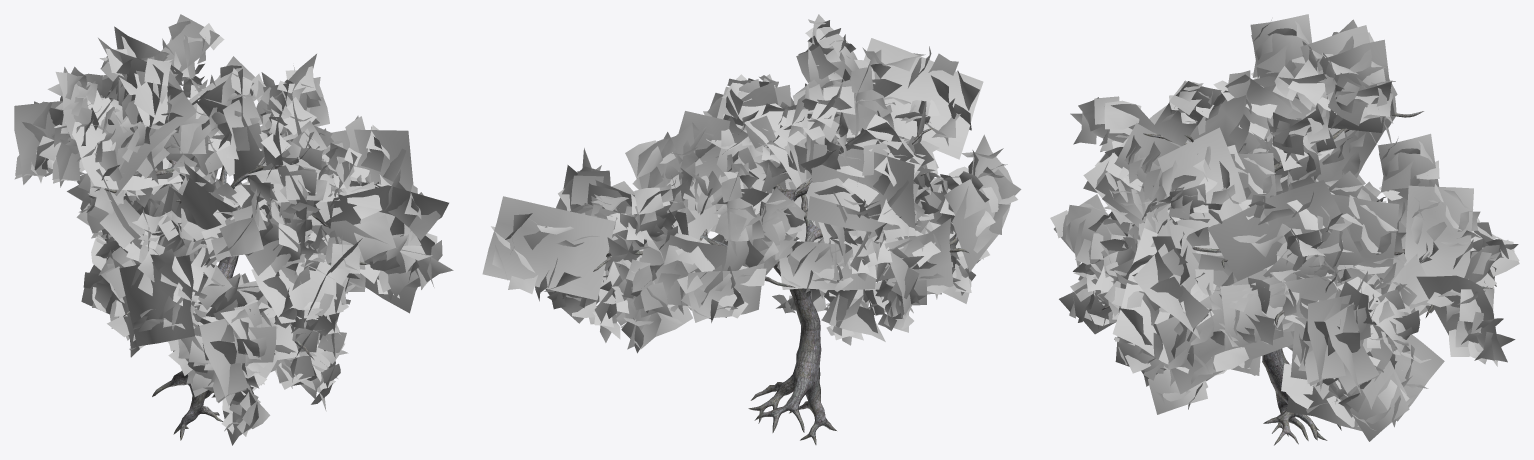
File: tree2.fbx
The picture shows the model from 3 angles, left to right: view 1: azimuth 30°, elevation 25°; view 2: azimuth 150°, elevation 25°; view 3: azimuth 270°, elevation 25°; orthographic projection.
Parts seen in each view (by area): view 1: tree2|branch2-2|Dupli|40, tree2|branch2-2|Dupli|58, tree2|branch2-3|Dupli|57, tree2|branch2-3|Dupli|24, tree2|branch2-1|Dupli|23, tree2|branch2-3|Dupli|78, tree2|branch2-1|Dupli|44, tree2|branch2-2|Dupli|46, tree2|branch2-3|Dupli|75, tree2|branch2-2|Dupli|43, tree2|branch2-3|Dupli|63, tree2|branch2-3|Dupli|39 (+37 smaller); view 2: tree2|branch2-2|Dupli|52, tree2|branch2-2|Dupli|46, tree2|branch2-3|Dupli|21, tree2, tree2|branch2-2|Dupli|40, tree2|branch2-3|Dupli|39, tree2|branch2-1|Dupli|41, tree2|branch2-1|Dupli|35, tree2|branch2-1|Dupli|29, tree2|branch2-3|Dupli|36, tree2|branch2-1|Dupli|17, tree2|branch2-2|Dupli|4 (+32 smaller); view 3: tree2|branch2-2|Dupli|55, tree2|branch2-2|Dupli|37, tree2|branch2-2|Dupli|70, tree2|branch2-2|Dupli|49, tree2|branch2-3|Dupli|57, tree2|branch2-2|Dupli|52, tree2|branch2-1|Dupli|5, tree2|branch2-2|Dupli|4, tree2|branch2-3|Dupli|24, tree2|branch2-2|Dupli|58, tree2|branch2-3|Dupli|, tree2|branch2-1|Dupli|65 (+39 smaller).
Part boxes in pixels (left/top/right/bottom): tree2|branch2-2|Dupli|40: left=119, top=248, right=204, bottom=346; tree2|branch2-2|Dupli|58: left=311, top=215, right=453, bottom=297; tree2|branch2-3|Dupli|57: left=313, top=169, right=448, bottom=248; tree2|branch2-3|Dupli|24: left=197, top=68, right=263, bottom=183; tree2|branch2-1|Dupli|23: left=114, top=52, right=171, bottom=184; tree2|branch2-3|Dupli|78: left=251, top=253, right=343, bottom=328; tree2|branch2-1|Dupli|44: left=175, top=178, right=305, bottom=275; tree2|branch2-2|Dupli|46: left=198, top=149, right=289, bottom=267; tree2|branch2-3|Dupli|75: left=322, top=116, right=413, bottom=191; tree2|branch2-2|Dupli|43: left=98, top=71, right=197, bottom=195; tree2|branch2-3|Dupli|63: left=199, top=295, right=276, bottom=405; tree2|branch2-3|Dupli|39: left=81, top=233, right=135, bottom=343; tree2|branch2-2|Dupli|52: left=482, top=196, right=615, bottom=301; tree2|branch2-2|Dupli|46: left=864, top=38, right=983, bottom=159; tree2|branch2-3|Dupli|21: left=806, top=143, right=916, bottom=241; tree2: left=593, top=128, right=968, bottom=444; tree2|branch2-2|Dupli|40: left=944, top=134, right=1021, bottom=272; tree2|branch2-3|Dupli|39: left=884, top=218, right=953, bottom=315; tree2|branch2-1|Dupli|41: left=677, top=263, right=766, bottom=322; tree2|branch2-1|Dupli|35: left=713, top=161, right=768, bottom=270; tree2|branch2-1|Dupli|29: left=775, top=237, right=877, bottom=292; tree2|branch2-3|Dupli|36: left=640, top=226, right=727, bottom=317; tree2|branch2-1|Dupli|17: left=722, top=74, right=801, bottom=188; tree2|branch2-2|Dupli|4: left=625, top=124, right=698, bottom=233; tree2|branch2-2|Dupli|55: left=1207, top=180, right=1363, bottom=281; tree2|branch2-2|Dupli|37: left=1404, top=184, right=1481, bottom=279; tree2|branch2-2|Dupli|70: left=1156, top=268, right=1293, bottom=394; tree2|branch2-2|Dupli|49: left=1157, top=127, right=1248, bottom=236; tree2|branch2-3|Dupli|57: left=1133, top=214, right=1213, bottom=341; tree2|branch2-2|Dupli|52: left=1416, top=275, right=1515, bottom=366; tree2|branch2-1|Dupli|5: left=1219, top=276, right=1337, bottom=350; tree2|branch2-2|Dupli|4: left=1317, top=194, right=1406, bottom=299; tree2|branch2-3|Dupli|24: left=1188, top=70, right=1292, bottom=153; tree2|branch2-2|Dupli|58: left=1111, top=228, right=1216, bottom=373; tree2|branch2-3|Dupli|: left=1325, top=274, right=1381, bottom=395; tree2|branch2-1|Dupli|65: left=1050, top=194, right=1126, bottom=292.
Size of the model in its own units: 2833 by 2820 by 3005.
